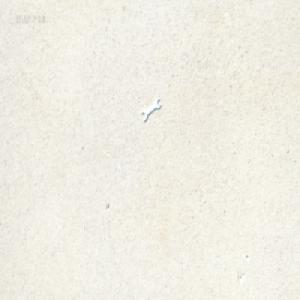Wrench: (141, 99, 161, 123)
